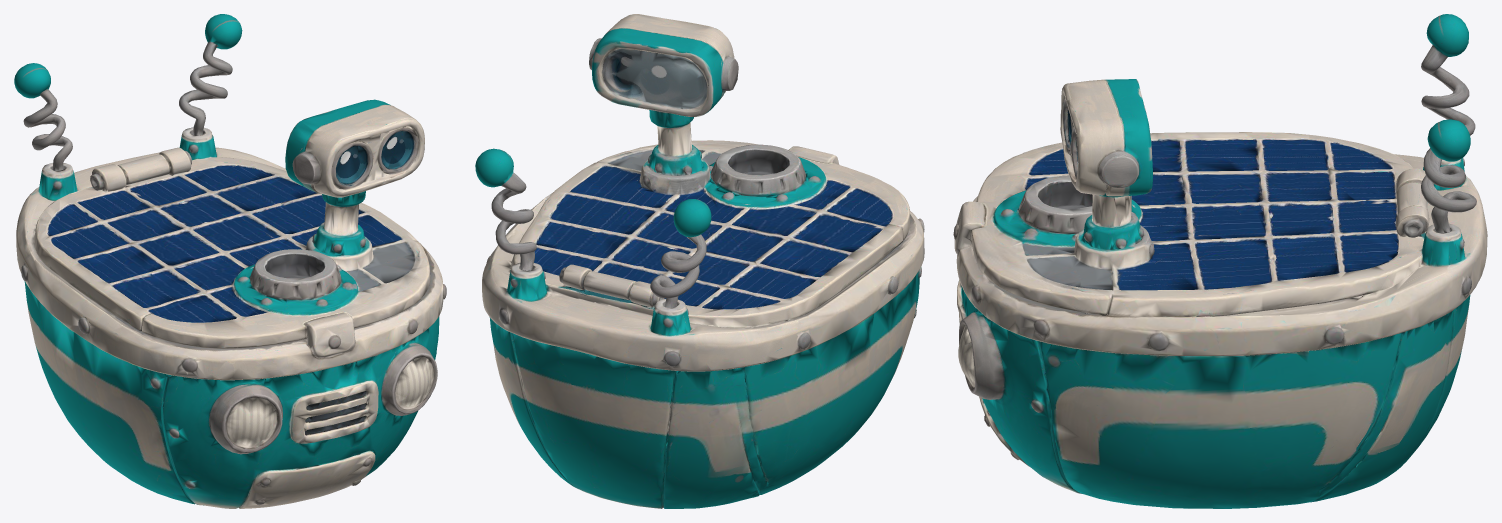
Rendered from rover_body.glb.
3 renders of one model, left to right at view 1: azimuth 30°, elevation 25°; view 2: azimuth 150°, elevation 25°; view 3: azimuth 270°, elevation 25°, orthographic. The views are drawn at different scales.
Bounding box in the file's own units: 1.59 × 1.54 × 1.9.
1 material, 1 textured.
